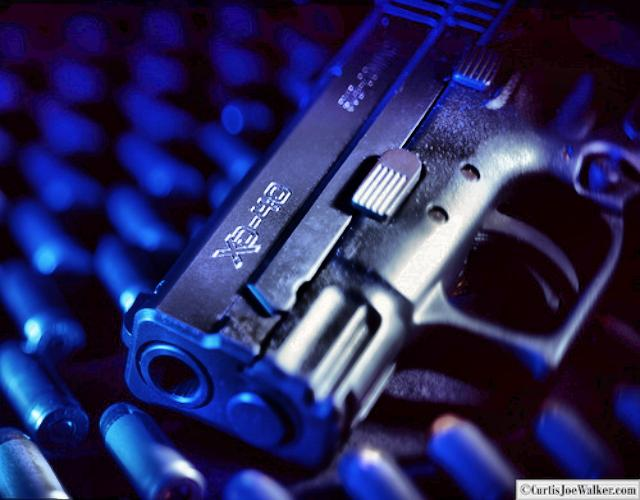pistol: (120, 1, 638, 445)
